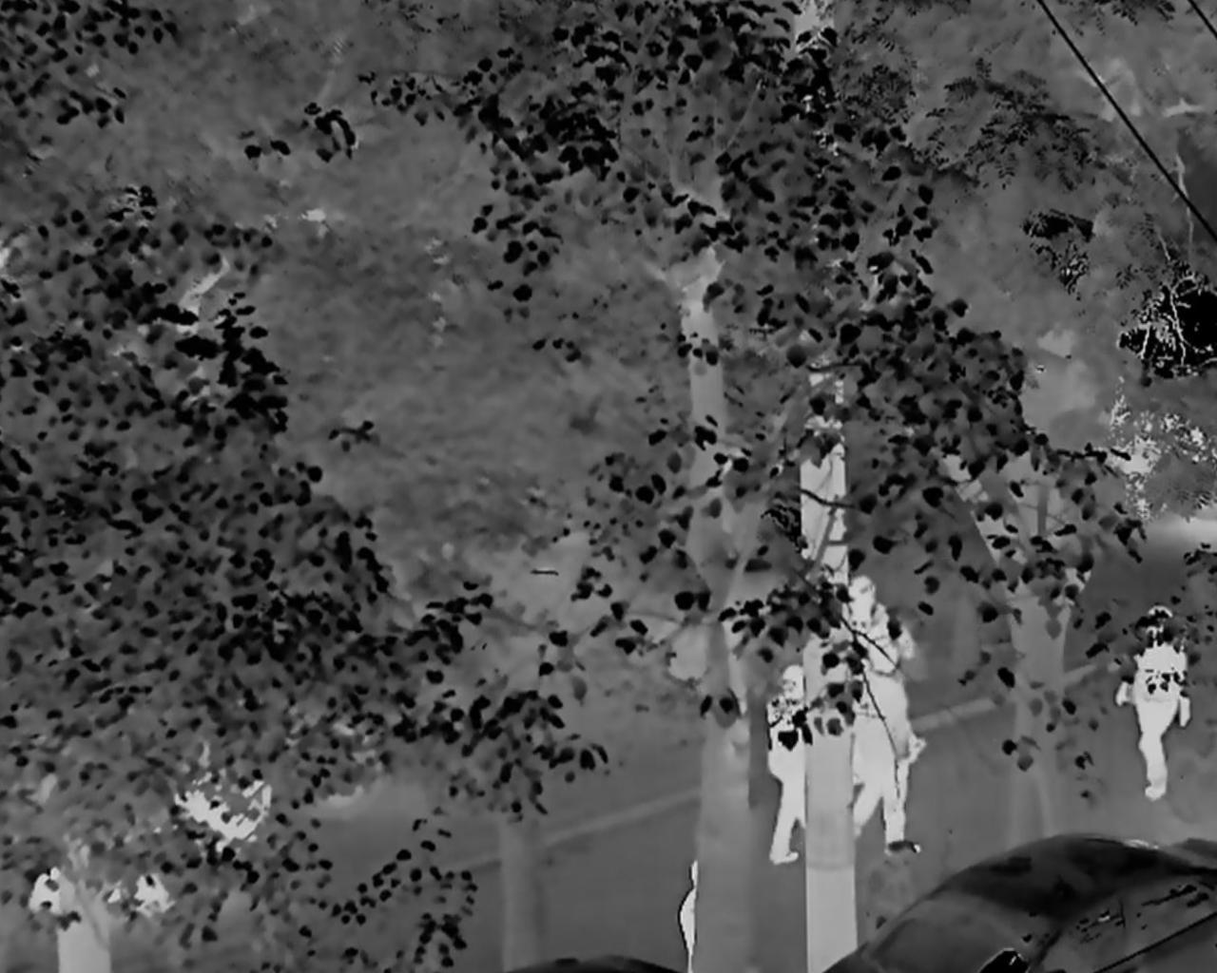person: (849, 636, 923, 858), (1118, 601, 1192, 803), (762, 662, 821, 865), (838, 570, 911, 687)
